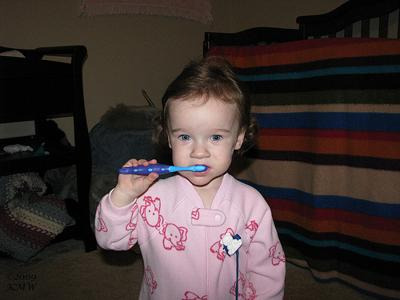person: (96, 58, 286, 300)
